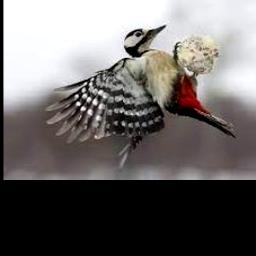Woodpecker: (45, 25, 237, 167)
